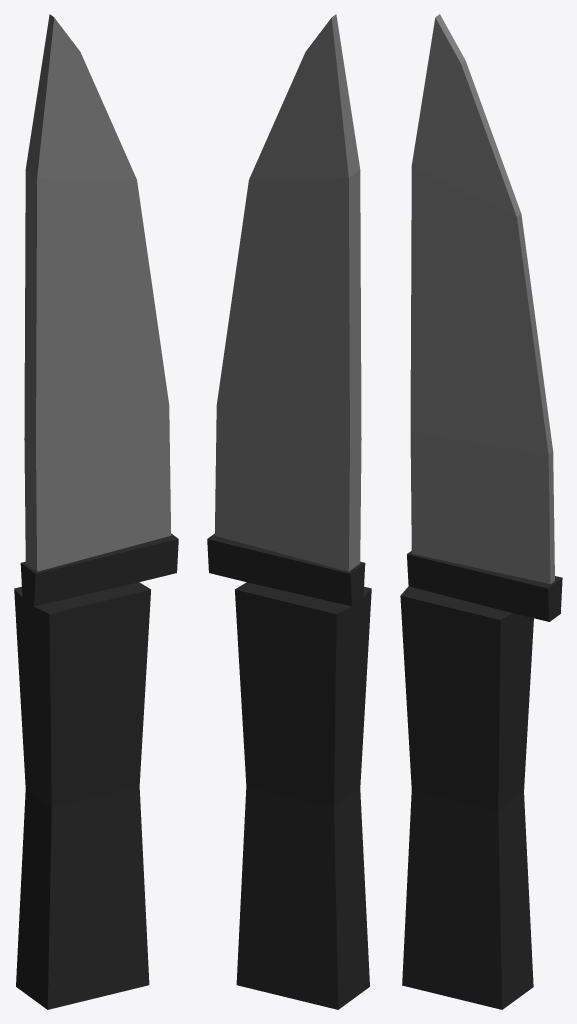
The model's file is KitchenKnife.fbx.
3 renders of one model, left to right at view 1: azimuth 30°, elevation 25°; view 2: azimuth 150°, elevation 25°; view 3: azimuth 330°, elevation 25°, orthographic.
Visible parts, largest first — view 1: KitchenKnife; view 2: KitchenKnife; view 3: KitchenKnife.
Part boxes in pixels (box(x1,y1,x2,y2)): KitchenKnife: box(14, 14, 178, 1009); KitchenKnife: box(207, 14, 371, 1009); KitchenKnife: box(400, 14, 562, 1009).
Size of the model in its own units: 0.0449 by 0.2934 by 0.0192.
